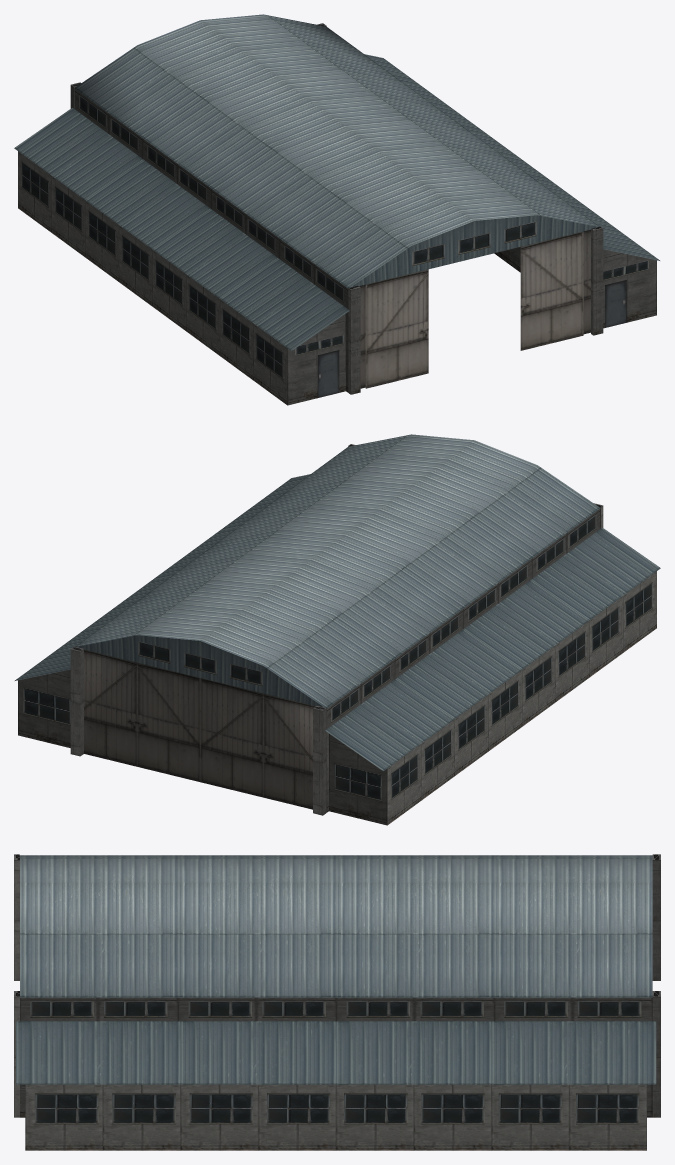
Rendered from Hangar_A.glb.
3 views of the same model, one above another, from view 1: azimuth 30°, elevation 25°; view 2: azimuth 150°, elevation 25°; view 3: azimuth 270°, elevation 25° (orthographic). The views are drawn at different scales.
Visible parts, largest first — view 1: Hangar_A; view 2: Hangar_A; view 3: Hangar_A.
Part boxes in pixels (bbox=[...]): Hangar_A: bbox=[14, 14, 659, 405]; Hangar_A: bbox=[15, 434, 660, 825]; Hangar_A: bbox=[14, 854, 660, 1150].
Size of the model in its own units: 8.96 by 3.27 by 11.78.
1 material, 1 textured.
